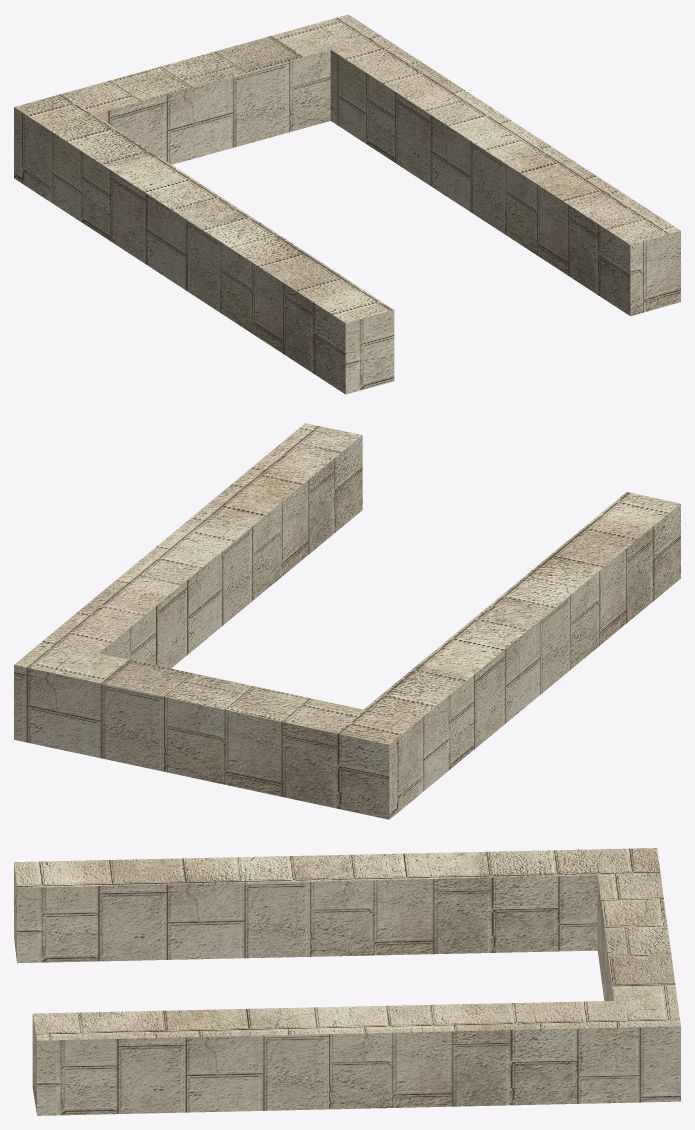
Rendered from walls_112.fbx.
The picture shows the model from 3 angles, top to bottom: view 1: azimuth 30°, elevation 25°; view 2: azimuth 150°, elevation 25°; view 3: azimuth 270°, elevation 25°; orthographic projection. The views are drawn at different scales.
Visible parts, largest first — view 1: walls_112; view 2: walls_112; view 3: walls_112.
Part boxes in pixels (x1,y1,x2,y2): walls_112: (14,14,680,394); walls_112: (14,423,680,819); walls_112: (14,848,680,1115).
Size of the model in its own units: 165 by 30 by 241.
